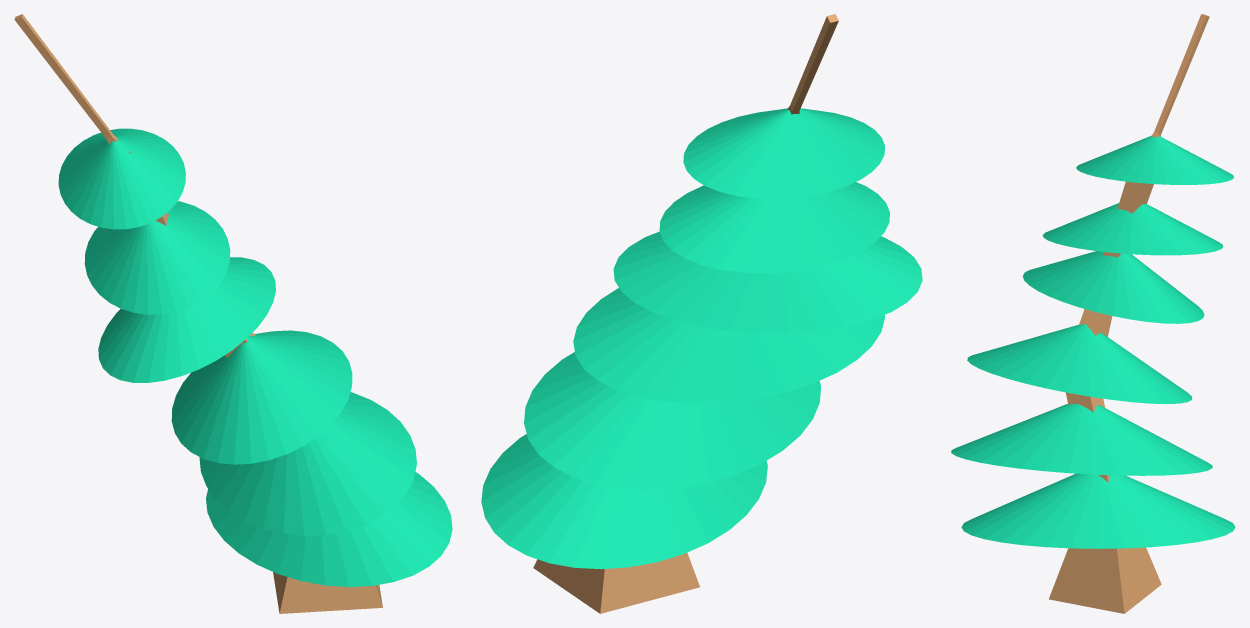
The model's file is Tree_4.fbx.
The picture shows the model from 3 angles, left to right: view 1: azimuth 30°, elevation 25°; view 2: azimuth 150°, elevation 25°; view 3: azimuth 270°, elevation 25°; orthographic projection. The views are drawn at different scales.
Parts seen in each view (by area): view 1: Cone.002, Cone.001, Cone, Cone.003, Cone.004, Cone.005, Cylinder; view 2: Cone.001, Cone, Cone.002, Cone.003, Cone.004, Cone.005, Cylinder; view 3: Cone, Cone.001, Cone.002, Cylinder, Cone.003, Cone.004, Cone.005.
Part boxes in pixels (x1,y1,x2,y2): Cone.002: (171, 330, 352, 464); Cone.001: (199, 392, 416, 535); Cone: (206, 472, 452, 586); Cone.003: (98, 257, 275, 382); Cone.004: (84, 201, 230, 314); Cone.005: (58, 128, 185, 229); Cylinder: (14, 14, 382, 613); Cone.001: (524, 352, 820, 490); Cone: (481, 434, 767, 569); Cone.002: (573, 288, 884, 403); Cone.003: (613, 231, 922, 333); Cone.004: (659, 182, 889, 273); Cone.005: (683, 108, 884, 199); Cylinder: (533, 14, 838, 613); Cone: (961, 473, 1235, 548); Cone.001: (951, 404, 1212, 475); Cone.002: (967, 324, 1192, 404); Cylinder: (1049, 14, 1209, 613); Cone.003: (1022, 251, 1204, 323); Cone.004: (1042, 203, 1223, 255); Cone.005: (1076, 135, 1233, 184).
Bounding box in the file's own units: 494 × 820 × 439.
